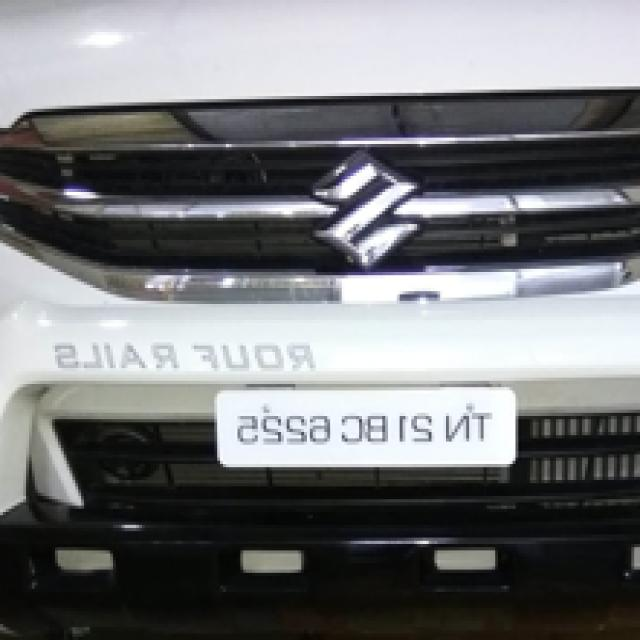number-plate: (224, 398, 520, 462)
